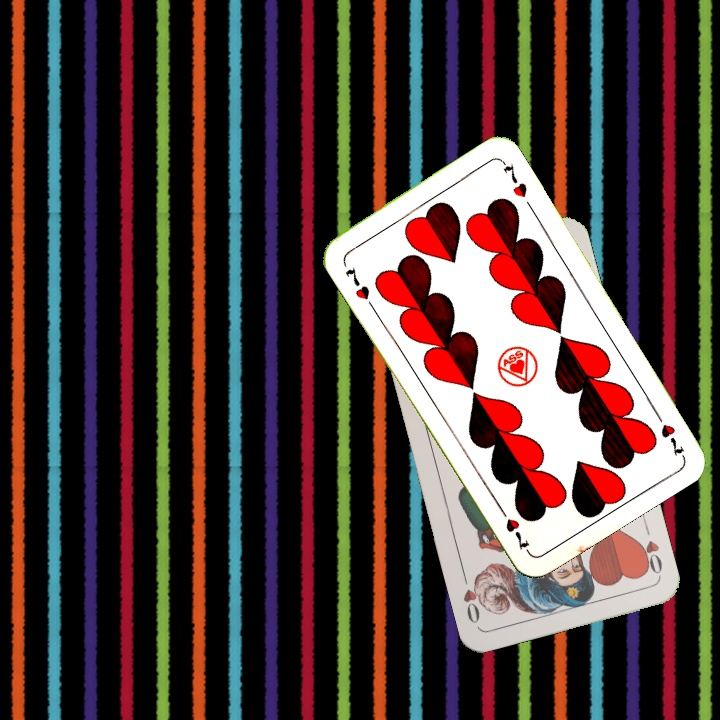H7: (649, 406, 687, 459), (341, 263, 373, 302)
HO: (634, 521, 665, 579)
